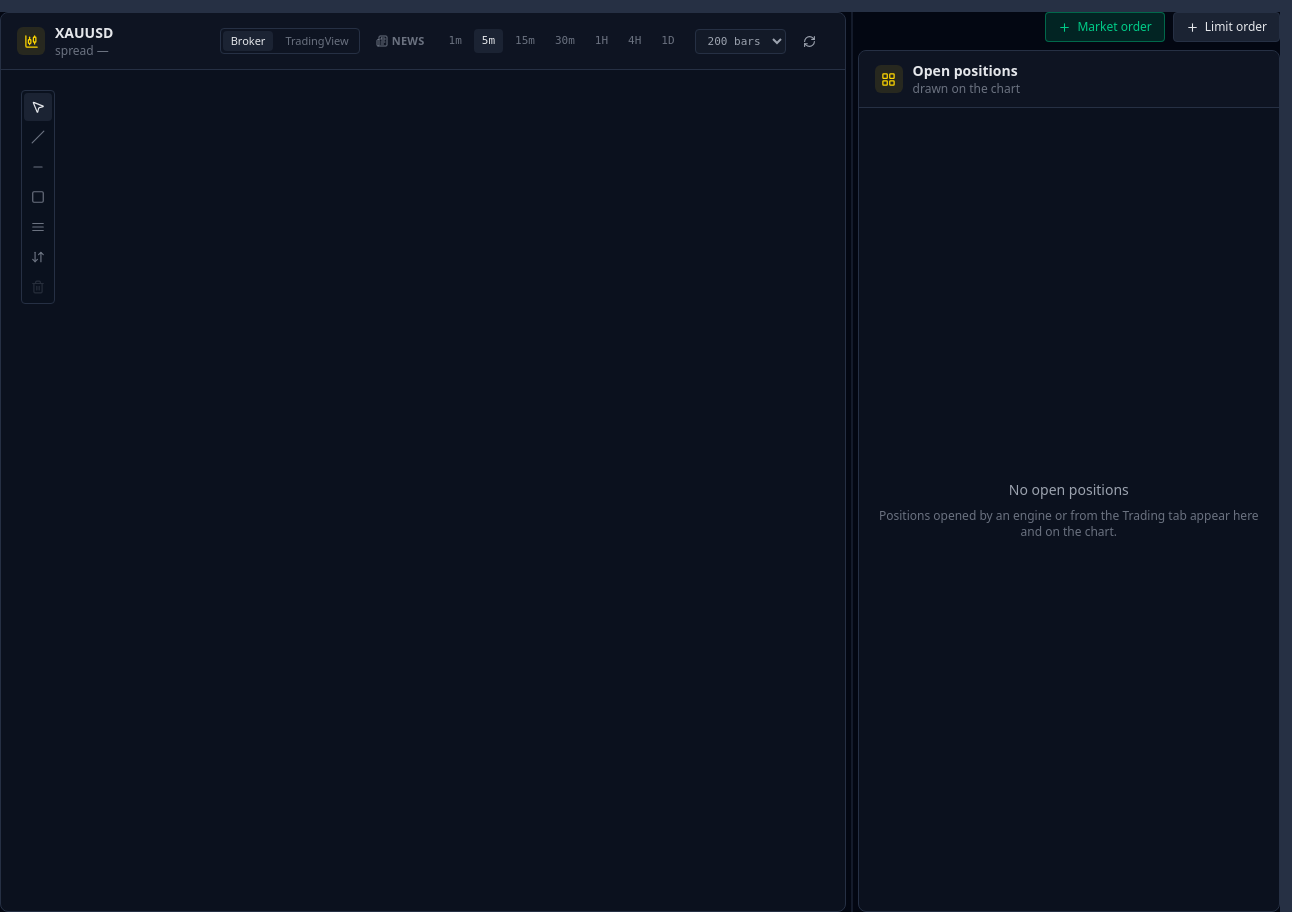
Test: the Broker chart's NEWS button › lists every currency when asked
Expected: the element with test id "candle-chart" is shown, [17,86,829,895]
Click the button "NEWS" at x=400, y=41, box [368,29,433,53]
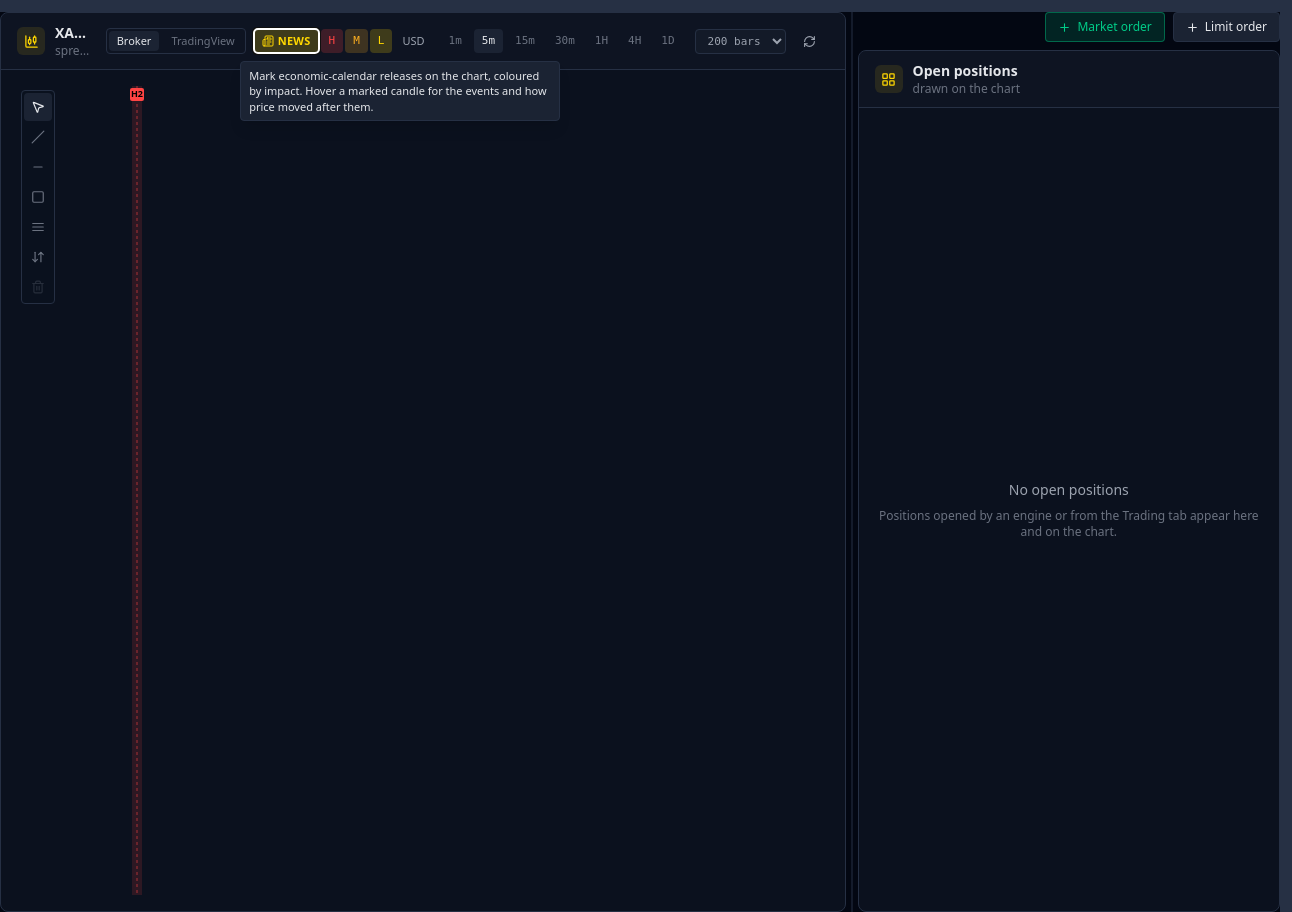
Click the button with aria-label "Currencies" at x=414, y=41, box [394,29,433,53]
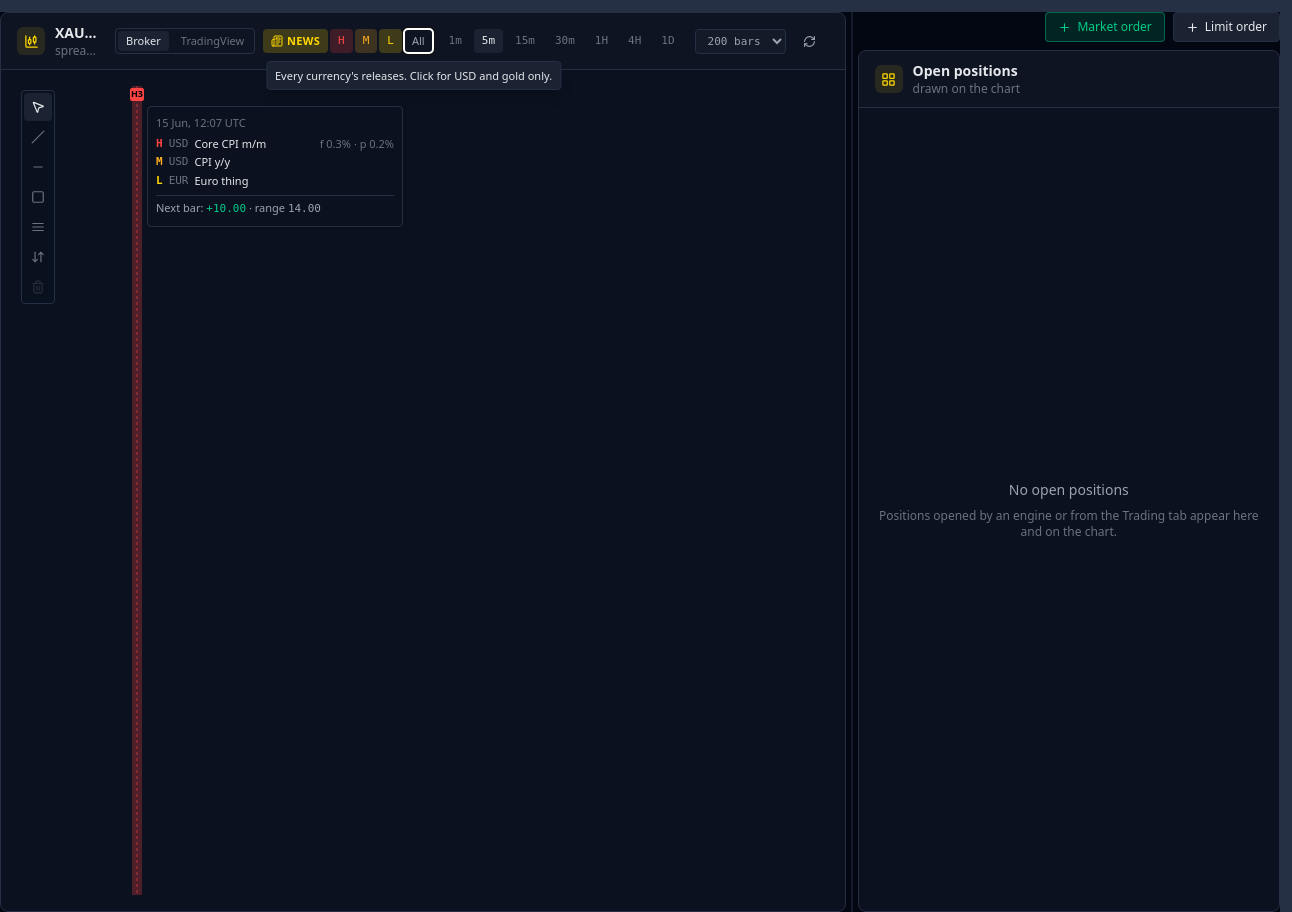
Expected: the element with test id "news-hover" shows "Euro thing", [194,172,248,188]
